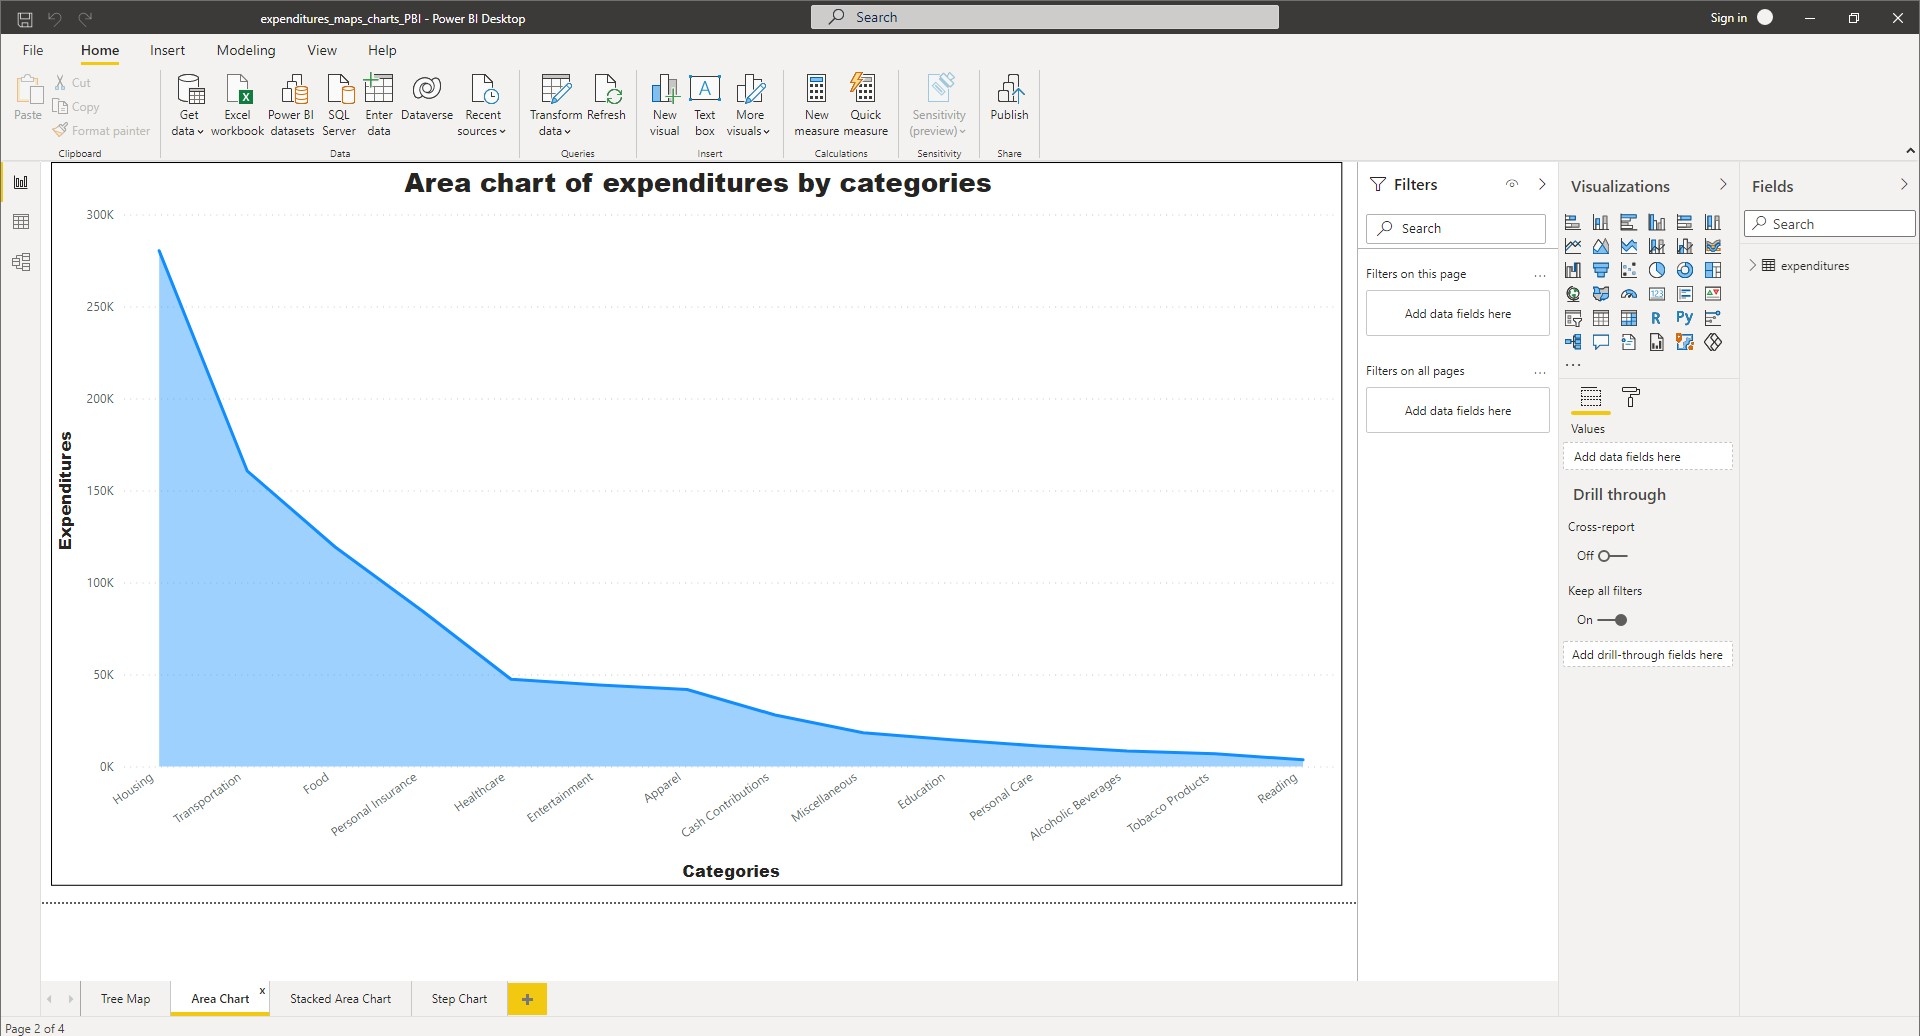

What the dashboard file says about the page in this screenshot:
{"tool":"powerbi","page":{"name":"Area Chart","canvas":[1280,720],"ordinal":1},"visuals":[{"type":"areaChart","title":"Area chart of expenditures by categories","fields":{"Category":["expenditures.category"],"Y":["Sum(expenditures.expenditure)"]},"box":[10.1,0,1256.5,703.8],"z":0}]}

Visuals, with their boxes on the page's 1280x720 design canvas (x1, y1, x2, y2). These are canvas units, not pixel positions in the 1920x1036 screenshot, which may show the page scaled, cropped or inside an application window:
"Area chart of expenditures by categories" areaChart: 10 0 1267 704
